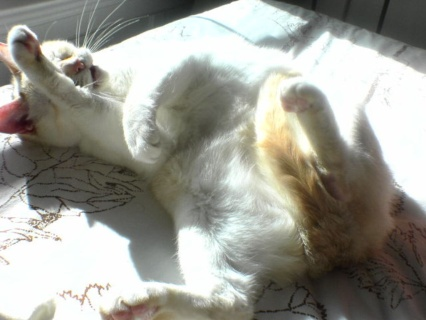Cat: (0, 0, 401, 319)
